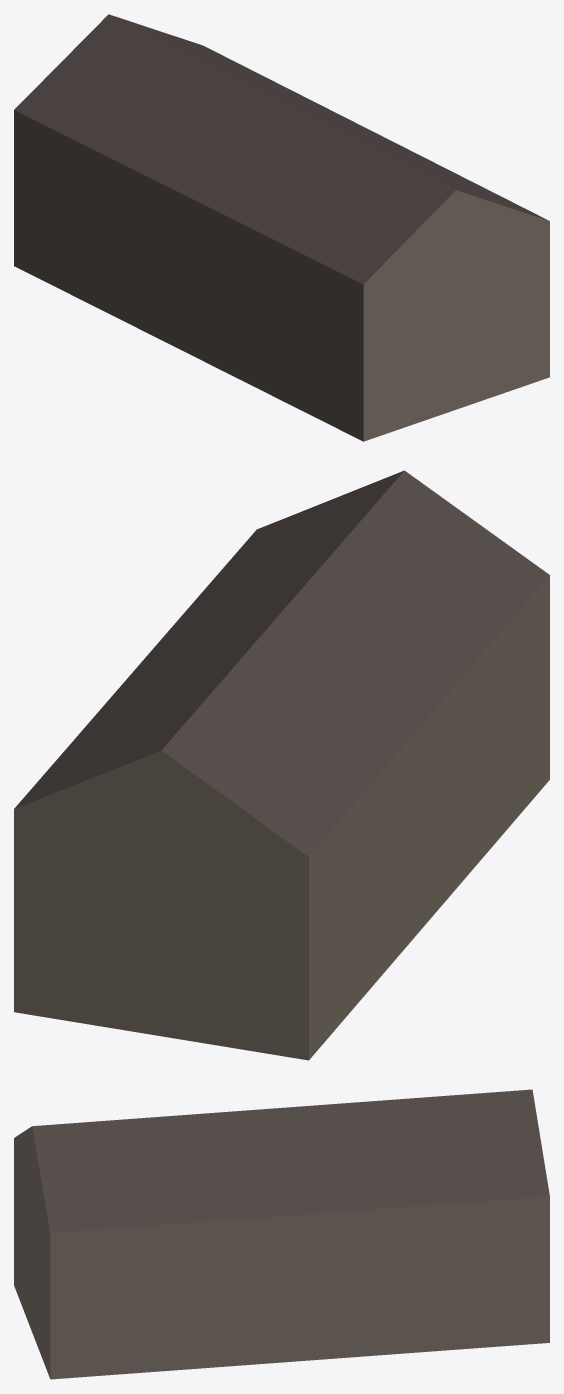
3 renders of one model, top to bottom at view 1: azimuth 30°, elevation 25°; view 2: azimuth 150°, elevation 25°; view 3: azimuth 270°, elevation 25°, orthographic. The views are drawn at different scales.
Visible parts, largest first — view 1: HP-w1196661459; view 2: HP-w1196661459; view 3: HP-w1196661459.
Boxes of the visible parts, x1,y1,x2,y2 form: HP-w1196661459: (14, 14, 549, 441); HP-w1196661459: (14, 470, 549, 1060); HP-w1196661459: (14, 1089, 549, 1379).
Size of the model in its own units: 11.59 by 8.44 by 19.92.
